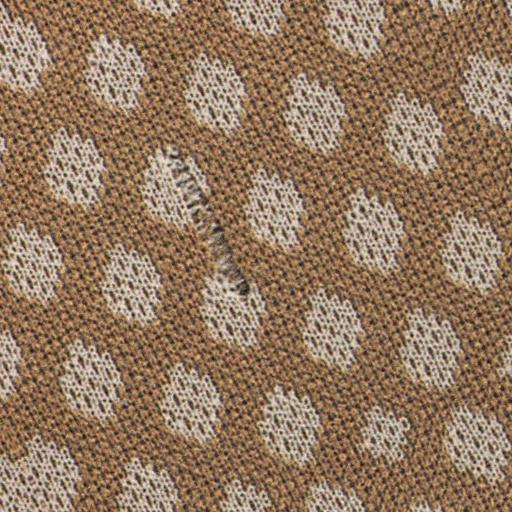slub: (145, 122, 267, 317)
